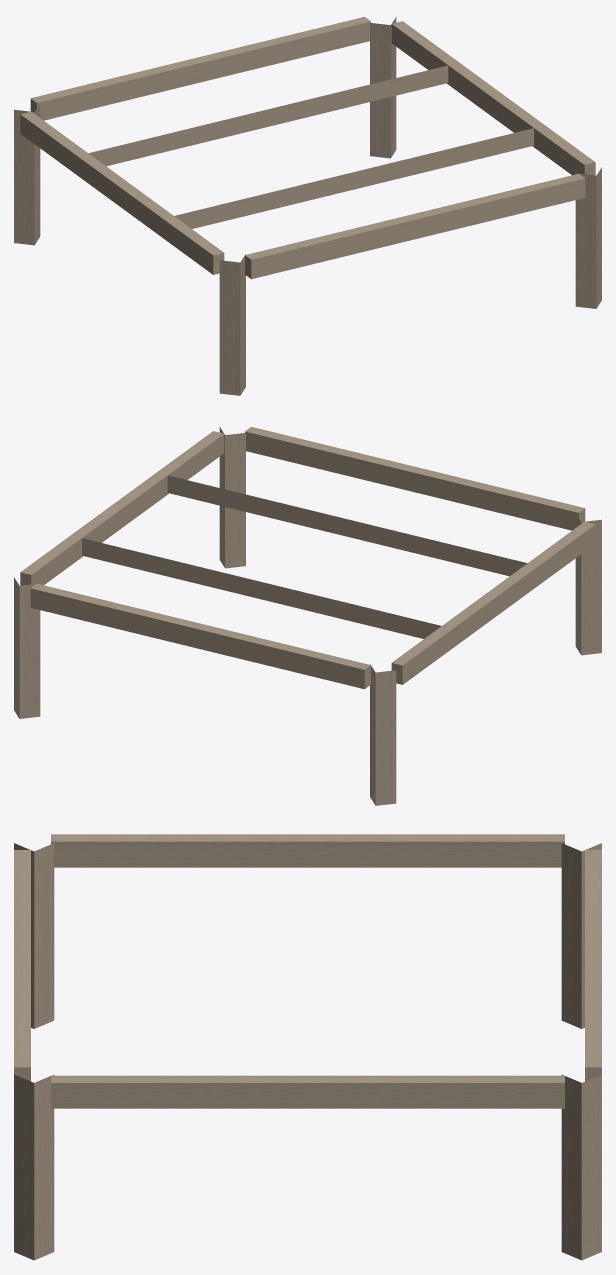
File: kd_stage_135b75_4_122_bounded_portal.glb
3 renders of one model, top to bottom at view 1: azimuth 30°, elevation 25°; view 2: azimuth 150°, elevation 25°; view 3: azimuth 270°, elevation 25°, orthographic. The views are drawn at different scales.
Visible parts, largest first — view 1: kd_stage_135b75_4_122_bounded_portal; view 2: kd_stage_135b75_4_122_bounded_portal; view 3: kd_stage_135b75_4_122_bounded_portal.
Part boxes in pixels (x1,y1,x2,y2): kd_stage_135b75_4_122_bounded_portal: [14, 17, 601, 395]; kd_stage_135b75_4_122_bounded_portal: [14, 427, 601, 805]; kd_stage_135b75_4_122_bounded_portal: [14, 834, 601, 1260].
Bounding box in the file's own units: 1.03 × 0.3433 × 1.03.
1 material, 1 textured.
